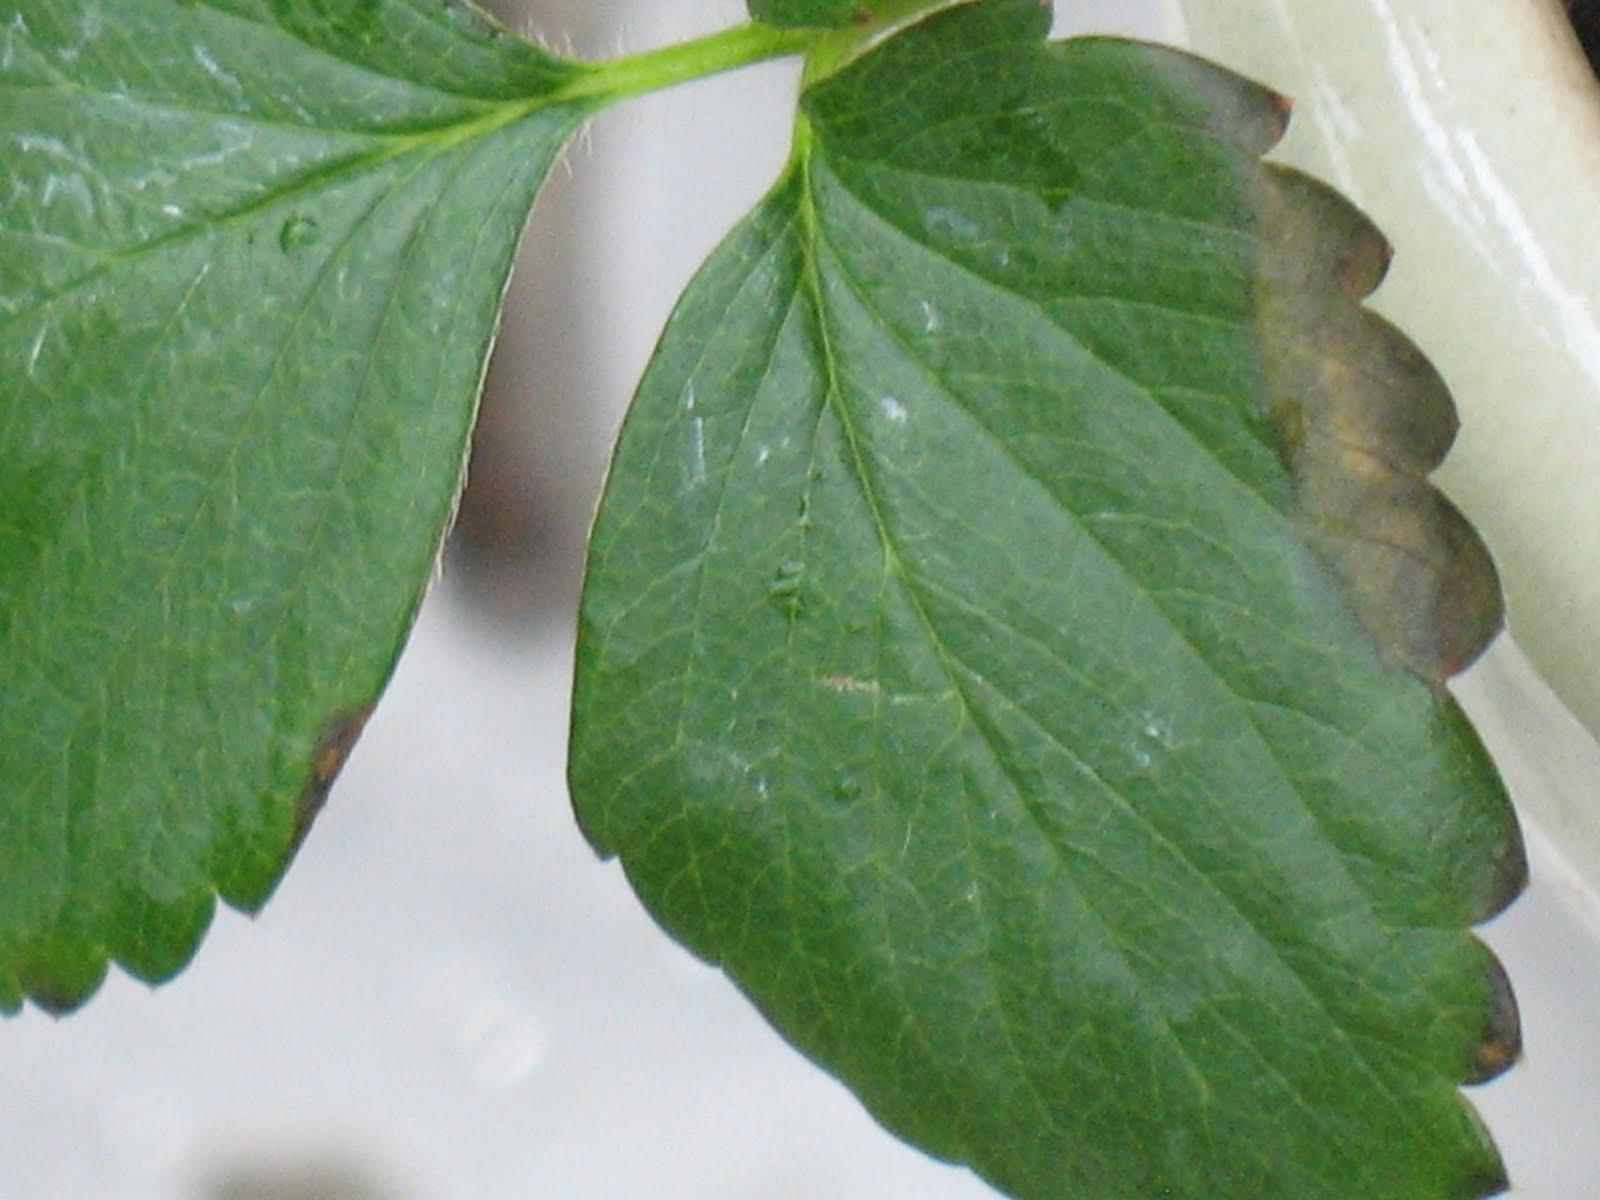Strawberry leaf: (582, 23, 1506, 1200)
